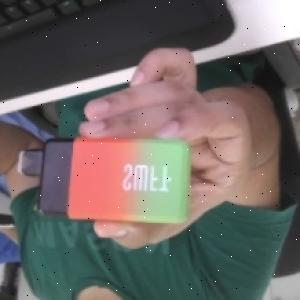Swift-E-Ciggirate: (13, 135, 197, 229)
